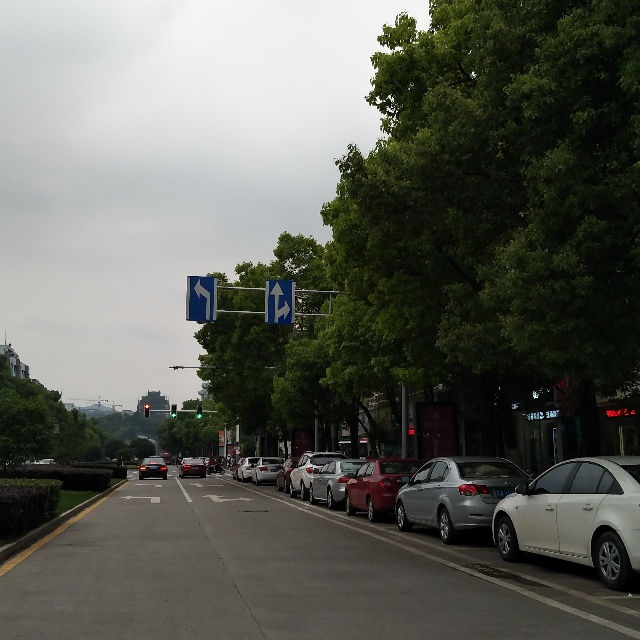left: (186, 275, 218, 324)
